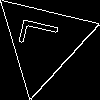L: (18, 16, 68, 54)
